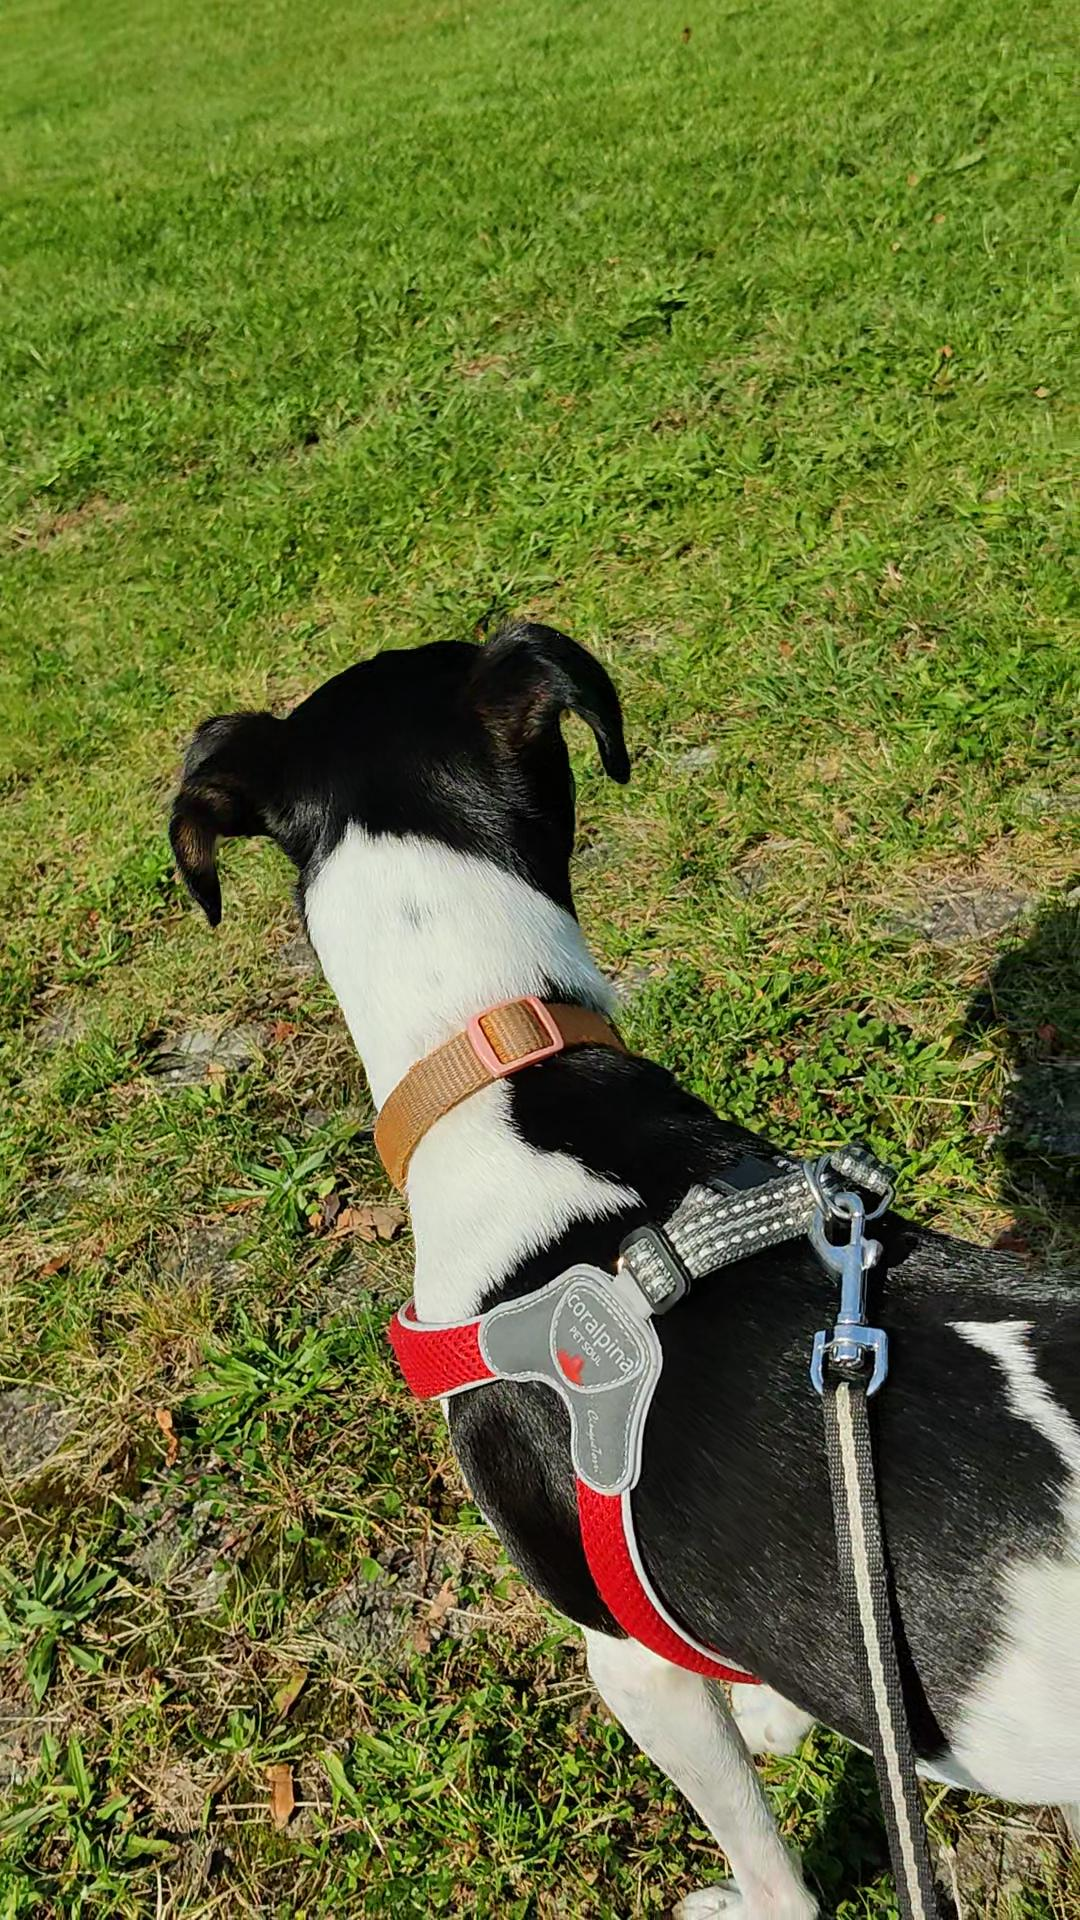Dog: (131, 571, 1079, 1919)
